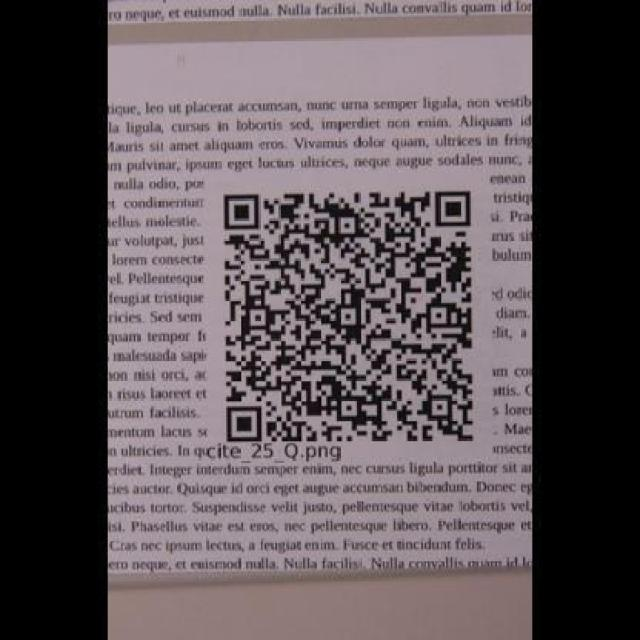QRCode: (216, 180, 481, 448)
